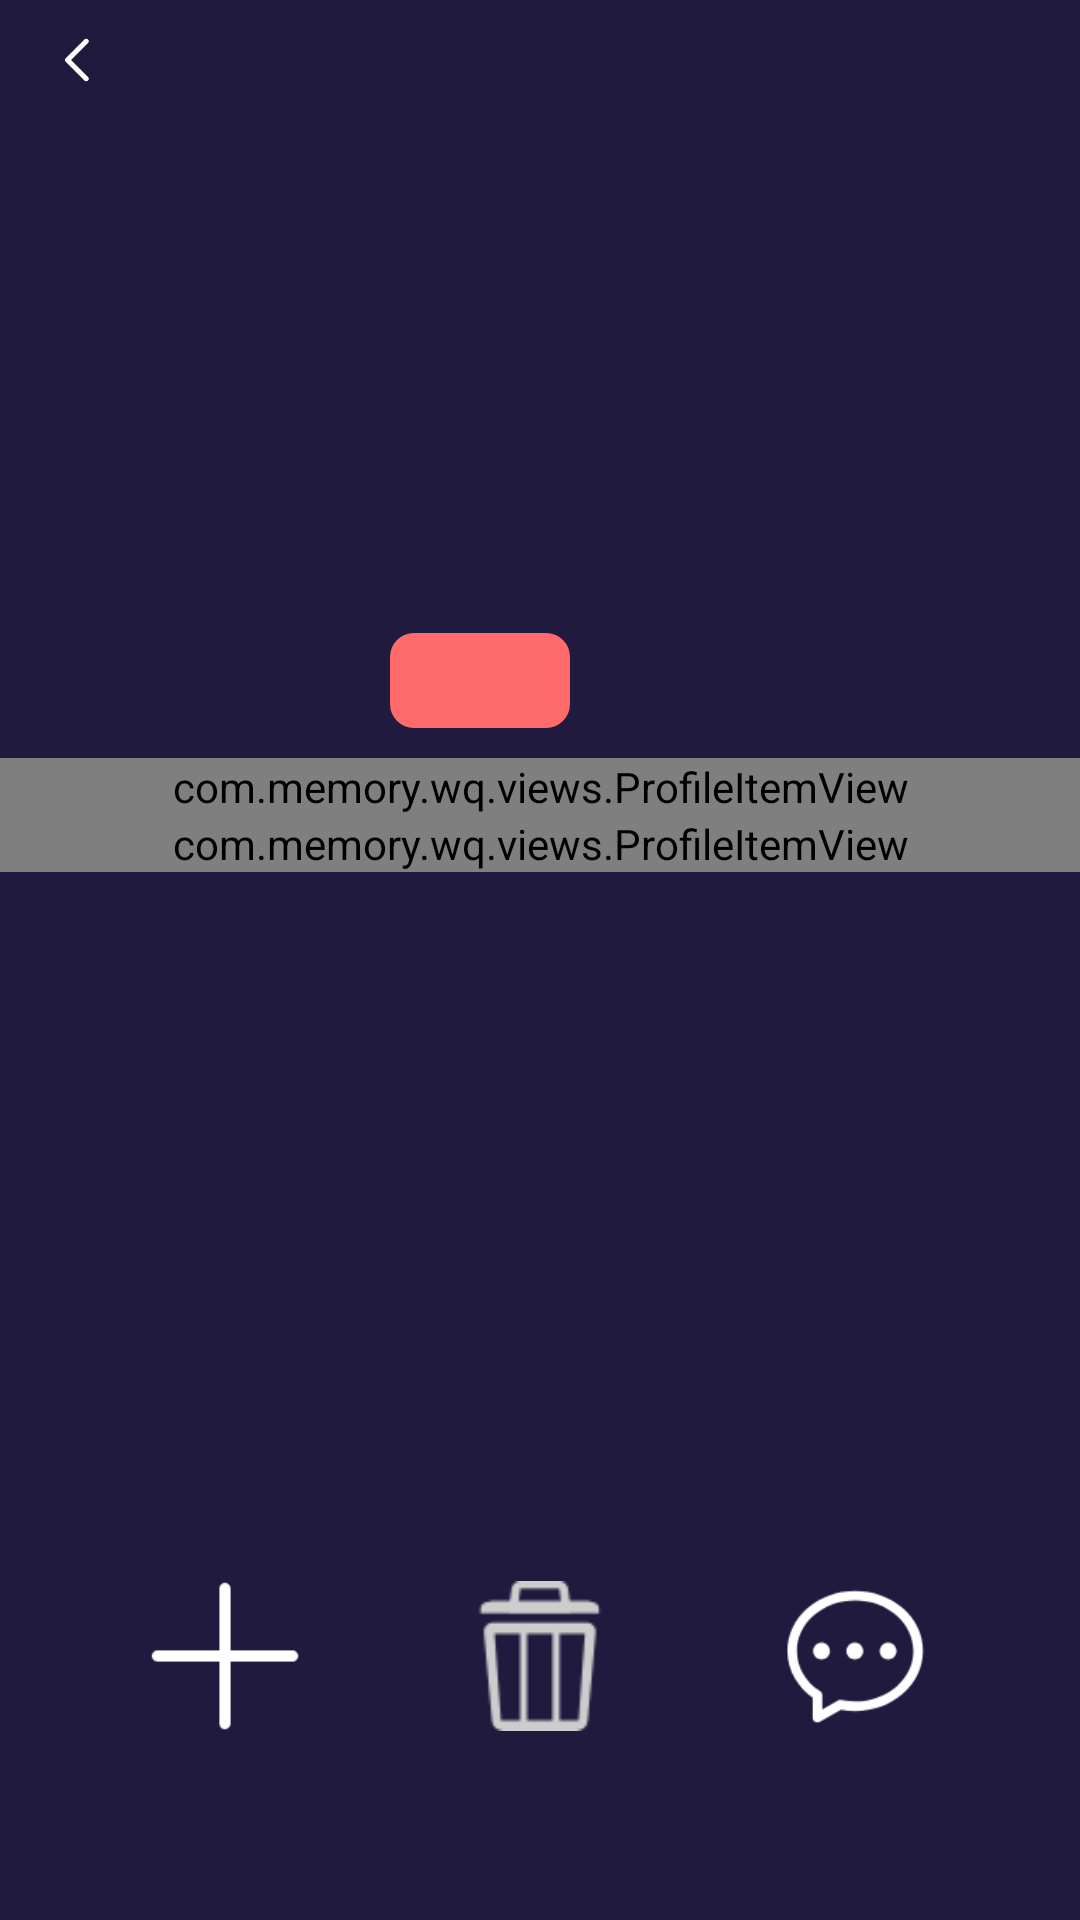

Where icons sit on this 1080px x 1920px app screen, as bbox=(x1, y1, x2, y2):
add: bbox=(151, 1582, 299, 1730)
back: bbox=(65, 38, 89, 82)
delete: bbox=(479, 1581, 600, 1731)
message: bbox=(787, 1590, 924, 1723)
